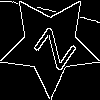Z: (24, 20, 78, 72)
